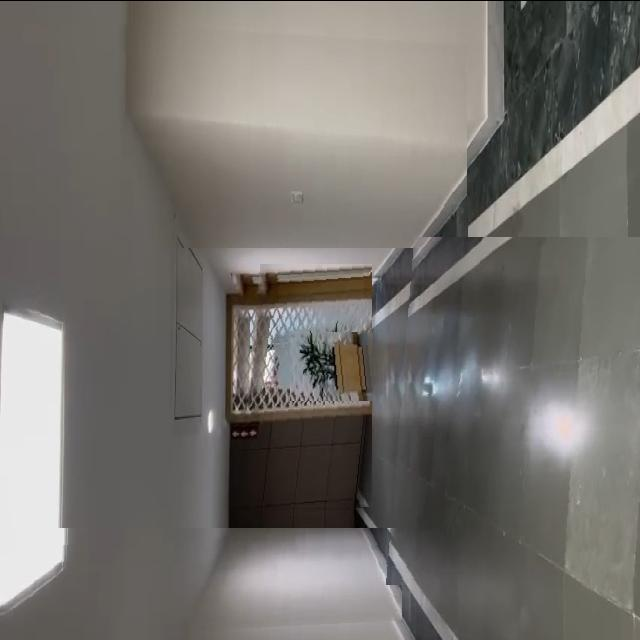door: (234, 263, 372, 517)
floor: (386, 236, 640, 584)
furniture: (290, 330, 379, 400)
wall: (6, 16, 468, 247), (1, 527, 402, 640)
